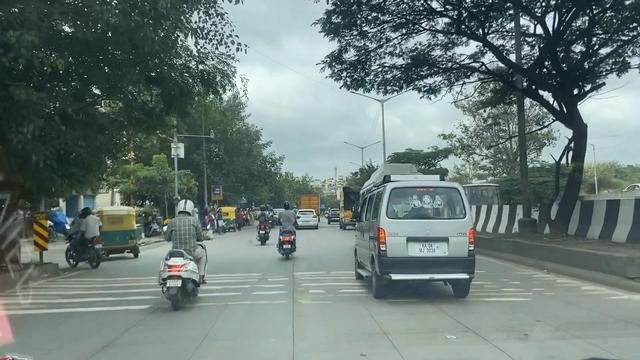LMV: (352, 182, 473, 310), (159, 196, 209, 309)
SpeedBump: (19, 269, 156, 320), (218, 273, 363, 308)
